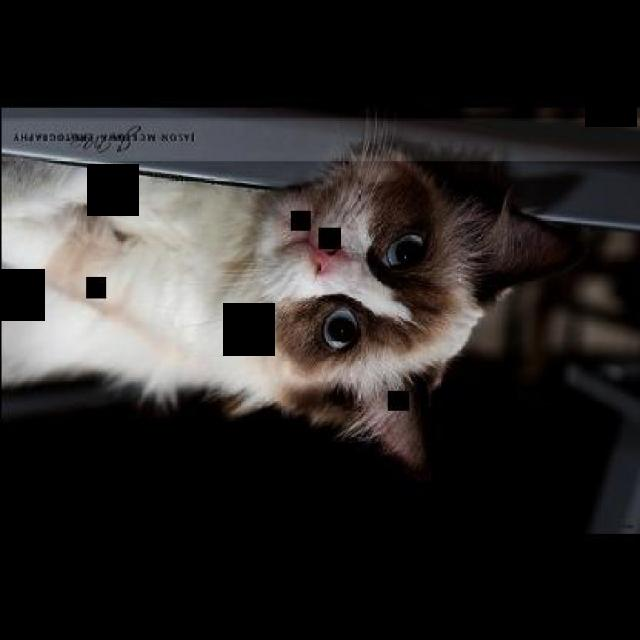unauthorized: (0, 112, 583, 471)
